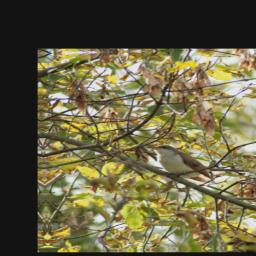Cuckoo: (144, 140, 222, 183)
